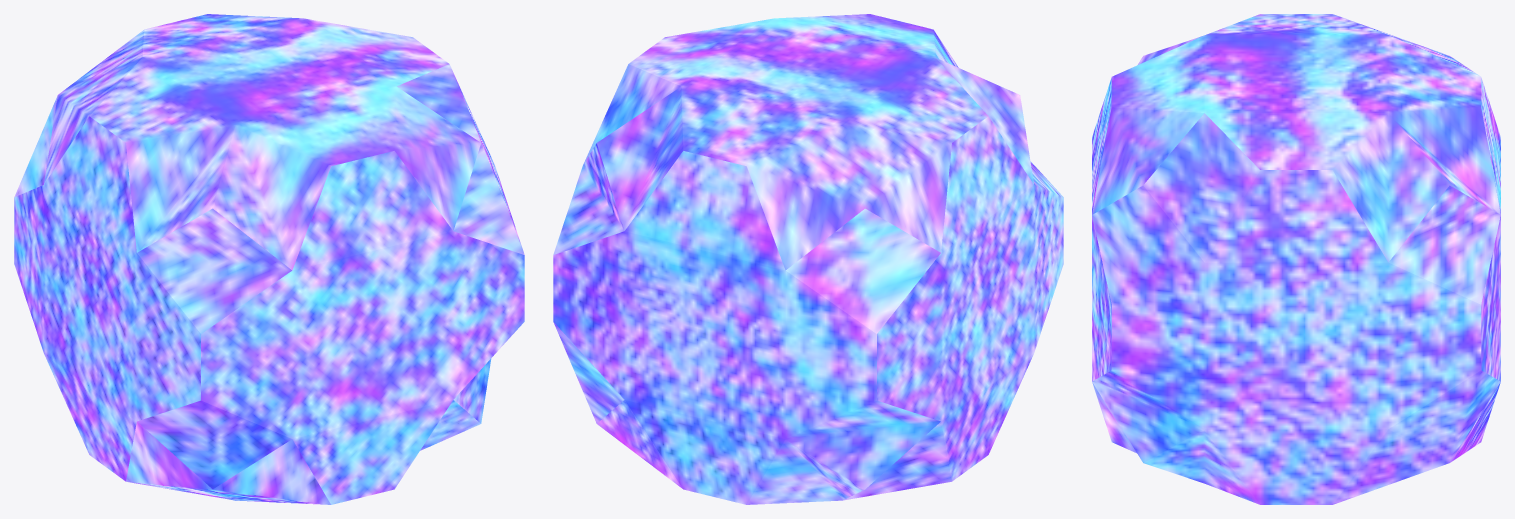
The model's file is BlobTime.glb.
3 renders of one model, left to right at view 1: azimuth 30°, elevation 25°; view 2: azimuth 150°, elevation 25°; view 3: azimuth 270°, elevation 25°, orthographic.
Parts seen in each view (by area): view 1: TimeBlob.mdd; view 2: TimeBlob.mdd; view 3: TimeBlob.mdd.
Part boxes in pixels (box(x1,y1,x2,y2)): TimeBlob.mdd: box(14, 14, 524, 504); TimeBlob.mdd: box(553, 14, 1063, 504); TimeBlob.mdd: box(1092, 14, 1500, 504).
Size of the model in its own units: 1.3 by 1.29 by 1.29.
